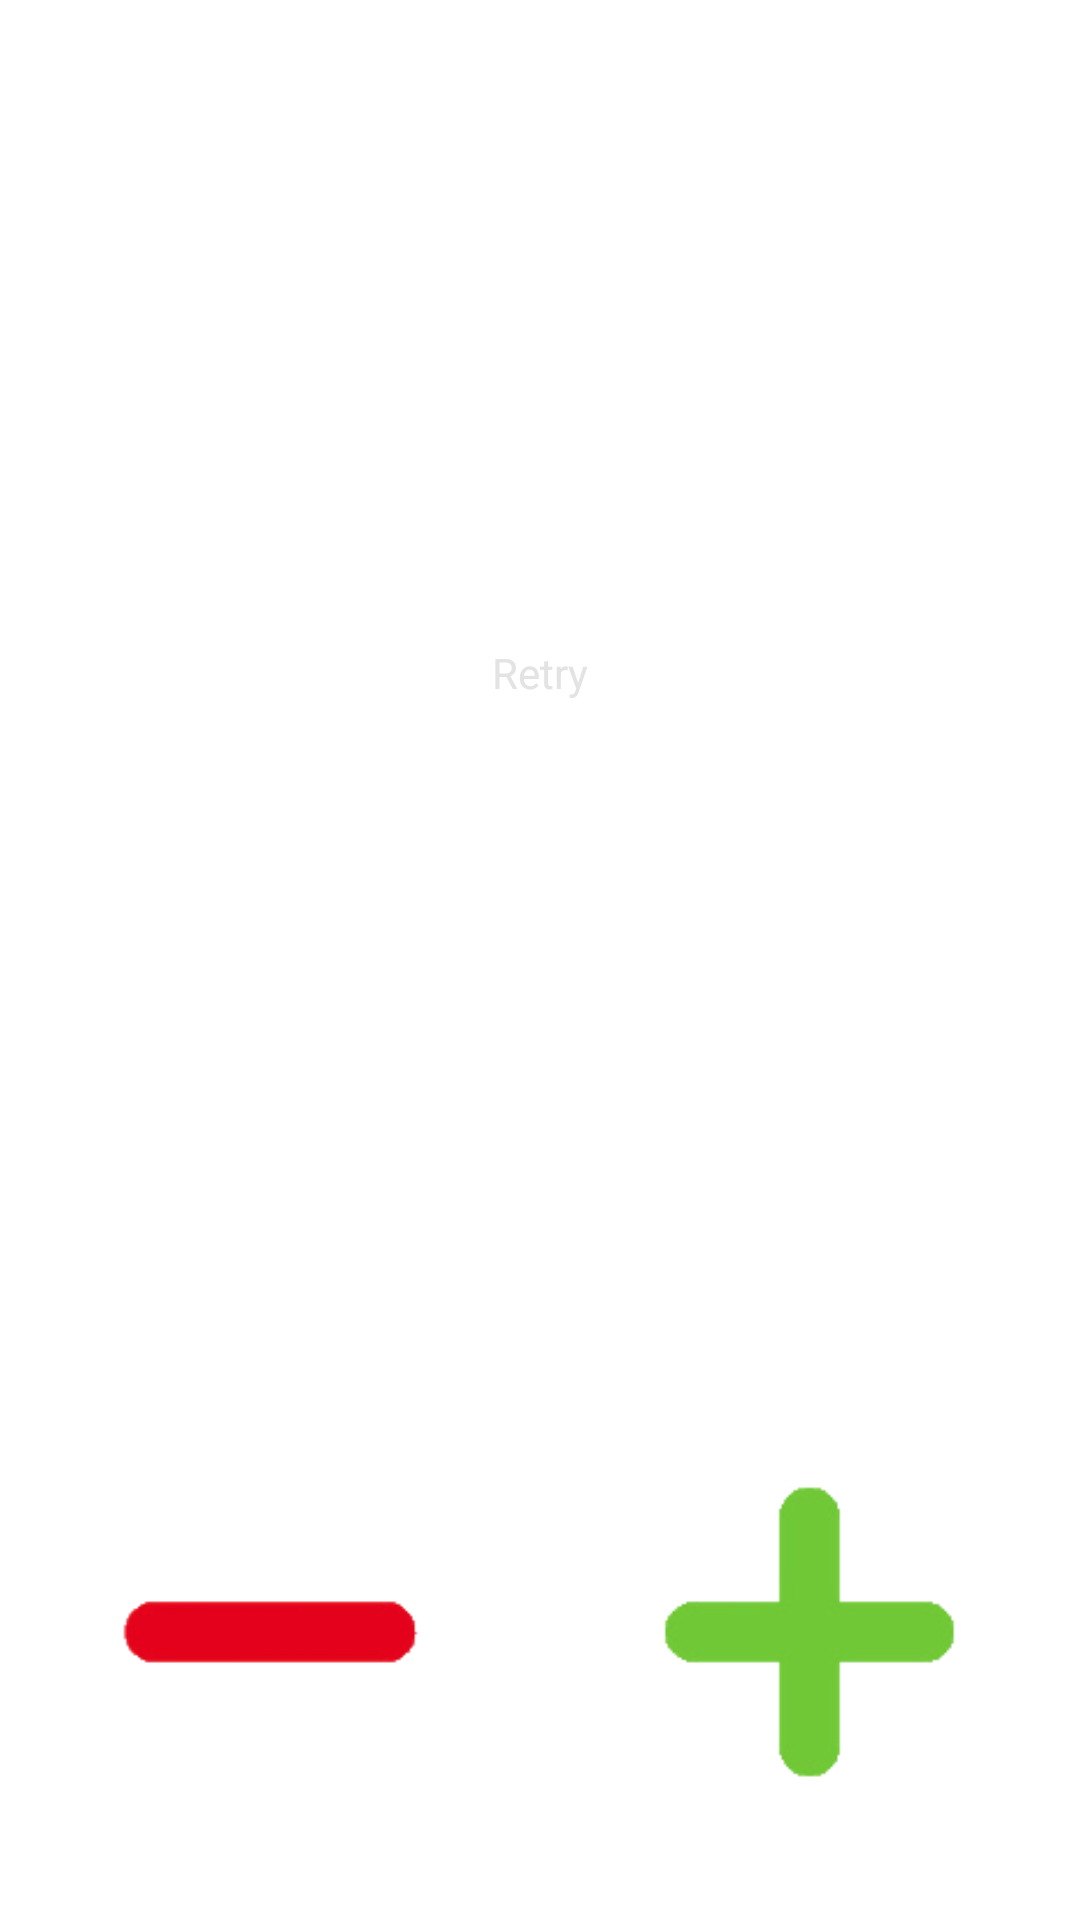

Where to tap for icons on this 1080w x 1920h app screen, as point (x, y):
minus: point (270, 1632)
plus: point (809, 1632)
